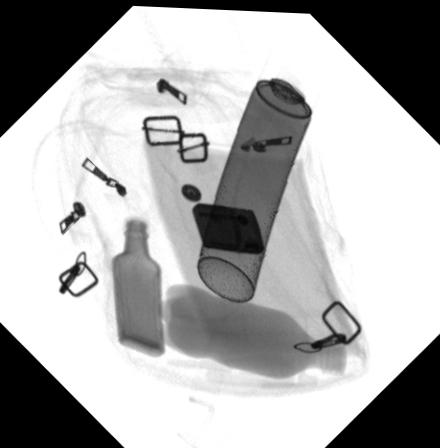Lighter: (192, 199, 265, 250)
Sprayer: (196, 43, 325, 298)
